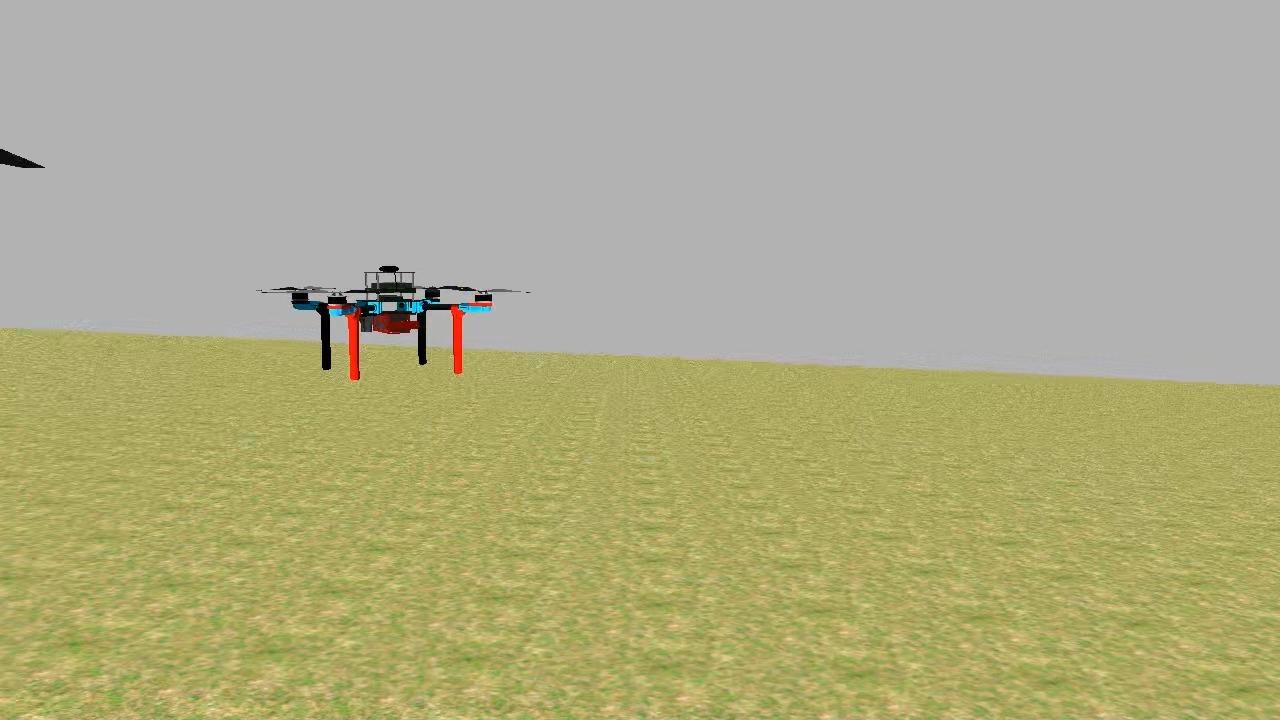UAV: (288, 260, 500, 384)
